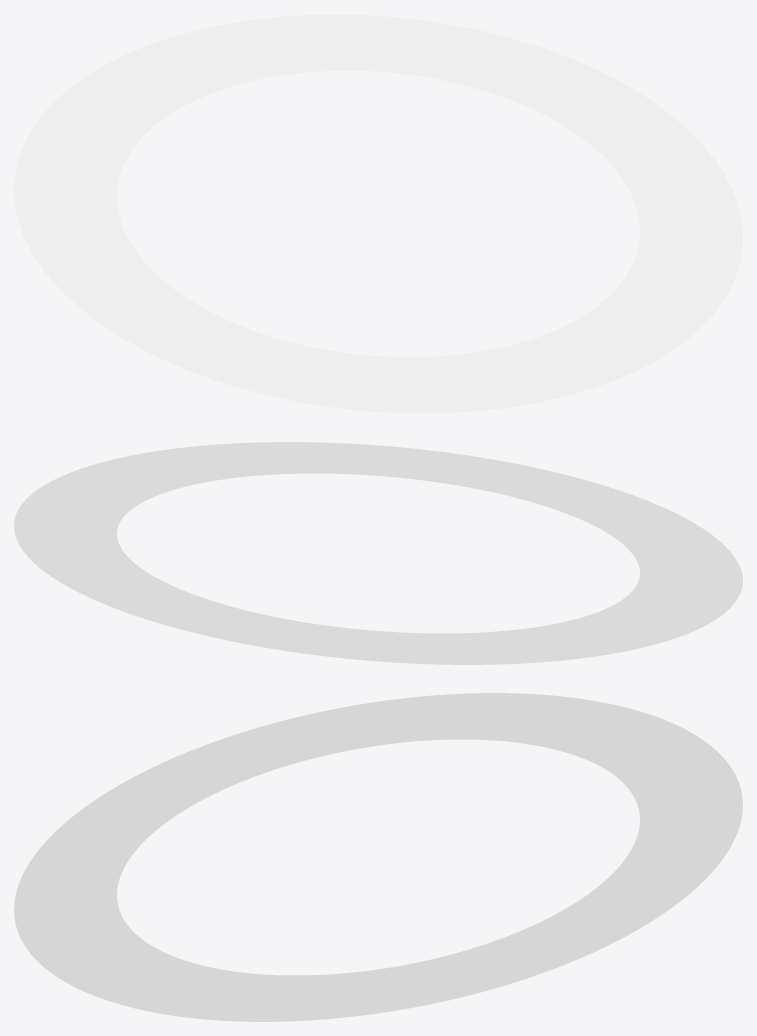
Rendered from DiscHot.obj.
3 renders of one model, top to bottom at view 1: azimuth 30°, elevation 25°; view 2: azimuth 150°, elevation 25°; view 3: azimuth 270°, elevation 25°, orthographic.
Parts seen in each view (by area): view 1: DiscHot; view 2: DiscHot; view 3: DiscHot.
Part boxes in pixels (x1,y1,x2,y2): DiscHot: (14, 14, 742, 413); DiscHot: (14, 442, 742, 664); DiscHot: (14, 693, 742, 1021).
Size of the model in its own units: 46 by 7.2 by 45.43.
Materials: 1 (1 with a texture image).
